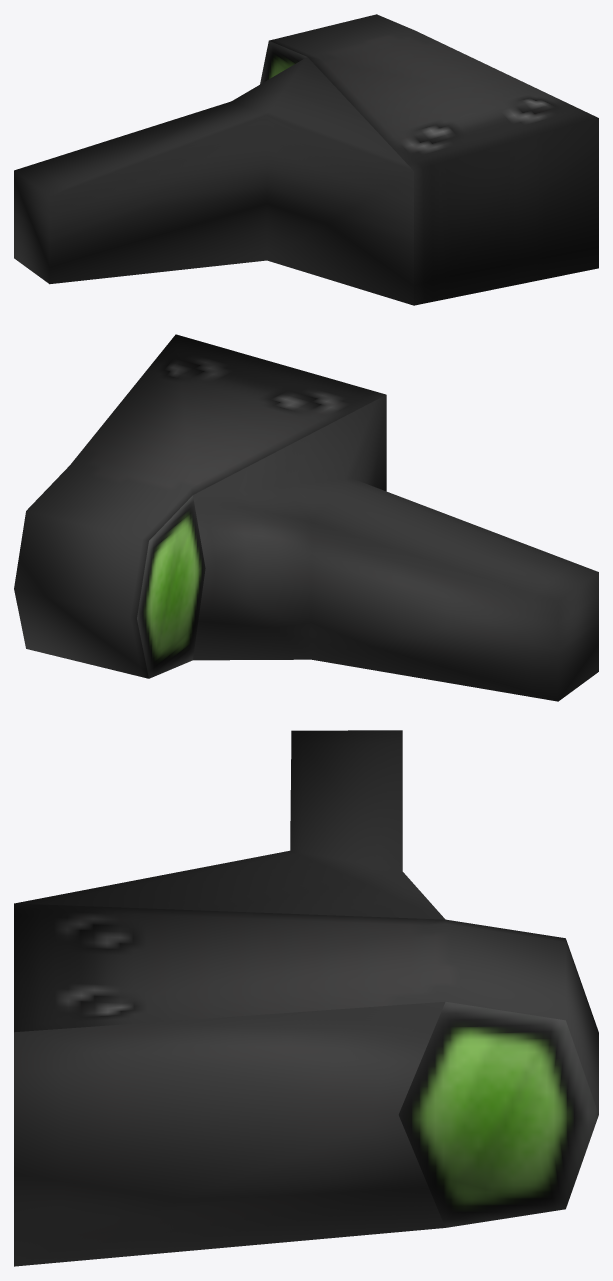
Rendered from Handgun03_RedDot3_Ground.fbx.
3 views of the same model, one above another, from view 1: azimuth 30°, elevation 25°; view 2: azimuth 150°, elevation 25°; view 3: azimuth 270°, elevation 25° (orthographic). The views are drawn at different scales.
Visible parts, largest first — view 1: Handgun03_RedDot3_Ground.X_.0002; view 2: Handgun03_RedDot3_Ground.X_.0002; view 3: Handgun03_RedDot3_Ground.X_.0002.
Boxes of the visible parts, x1=… form: Handgun03_RedDot3_Ground.X_.0002: x1=14, y1=14, x2=598, y2=305; Handgun03_RedDot3_Ground.X_.0002: x1=14, y1=334, x2=598, y2=701; Handgun03_RedDot3_Ground.X_.0002: x1=14, y1=730, x2=598, y2=1266.
Bounding box in the file's own units: 0.0879 × 0.0274 × 0.062.
